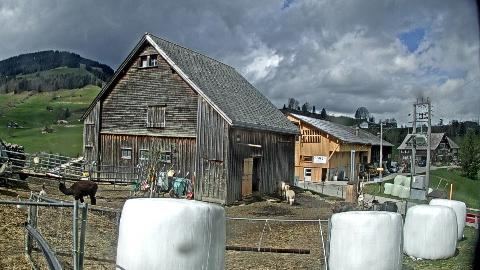car: (389, 166, 397, 172), (418, 162, 426, 166)
sheep: (60, 179, 98, 210), (332, 193, 364, 213), (372, 200, 398, 212), (284, 184, 296, 206), (32, 156, 44, 175), (276, 180, 286, 200)
